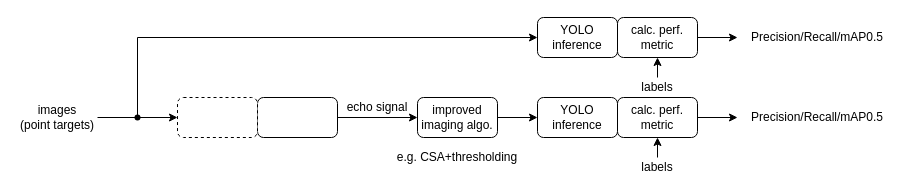
Some shapes in this 914 by 195 pixel diagram are drawn without their labels. The centre of each missing label's shape, as x and y in pixels:
add speckle noise: [217,117]
echo signal generation: [297,117]
